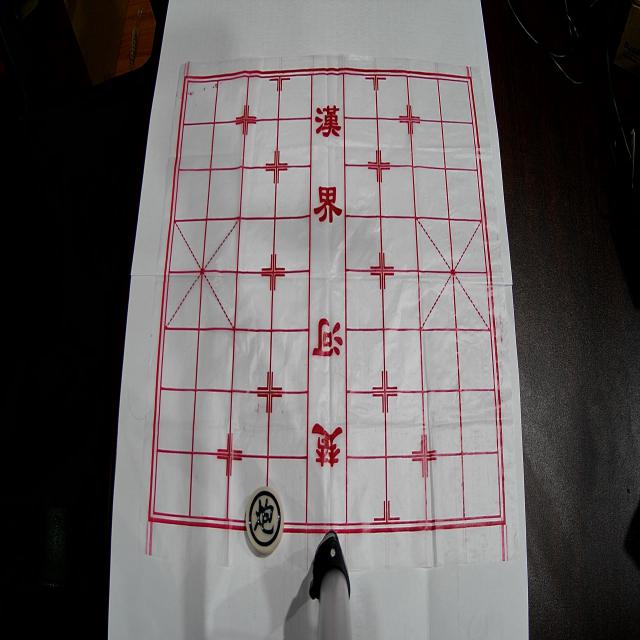black-cannon: (246, 486, 284, 554)
